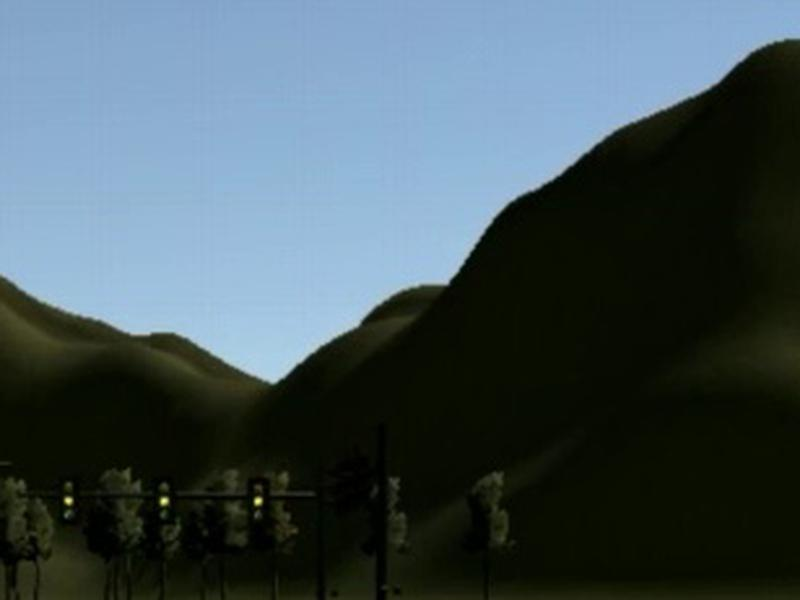Yellow: (249, 476, 270, 528), (155, 475, 176, 524), (60, 474, 78, 524)
